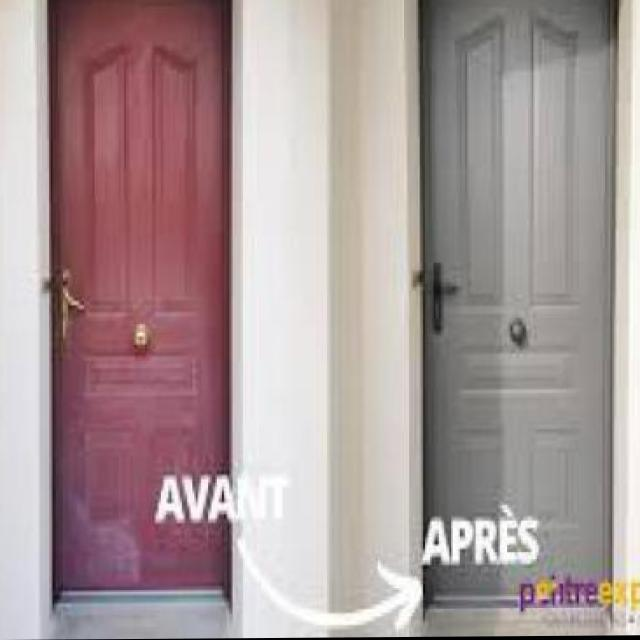door_handle: (51, 281, 92, 322), (420, 277, 473, 304)
